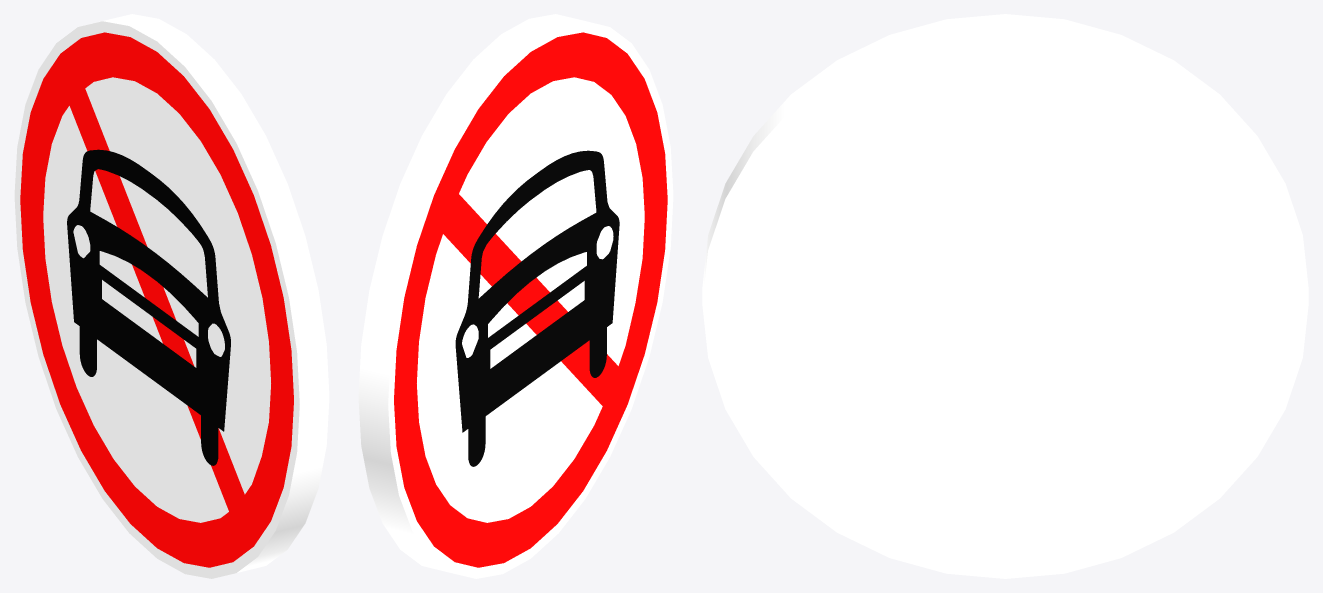
File: No_MotorVehicle_Entry.glb
The picture shows the model from 3 angles, left to right: view 1: azimuth 30°, elevation 25°; view 2: azimuth 150°, elevation 25°; view 3: azimuth 270°, elevation 25°; orthographic projection. The views are drawn at different scales.
Parts seen in each view (by area): view 1: No_MotorVehicle_Entry; view 2: No_MotorVehicle_Entry; view 3: No_MotorVehicle_Entry.
Part boxes in pixels (box(x1,y1,x2,y2)): No_MotorVehicle_Entry: box(14, 14, 329, 578); No_MotorVehicle_Entry: box(358, 14, 673, 578); No_MotorVehicle_Entry: box(702, 14, 1308, 578).
Size of the model in its own units: 0.075 by 1 by 1.
